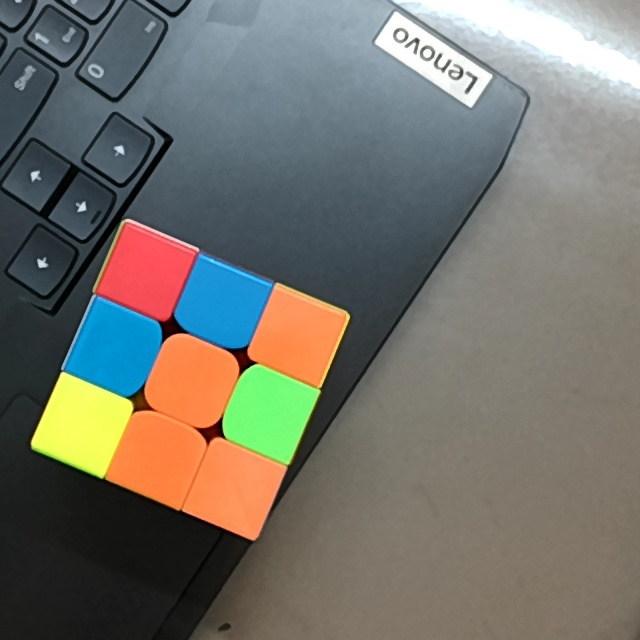tile: (269, 306, 328, 365), (206, 459, 264, 518), (161, 353, 221, 410), (192, 277, 251, 334), (127, 429, 183, 487), (88, 320, 145, 376), (239, 386, 298, 440), (55, 397, 111, 453), (118, 245, 173, 301)
